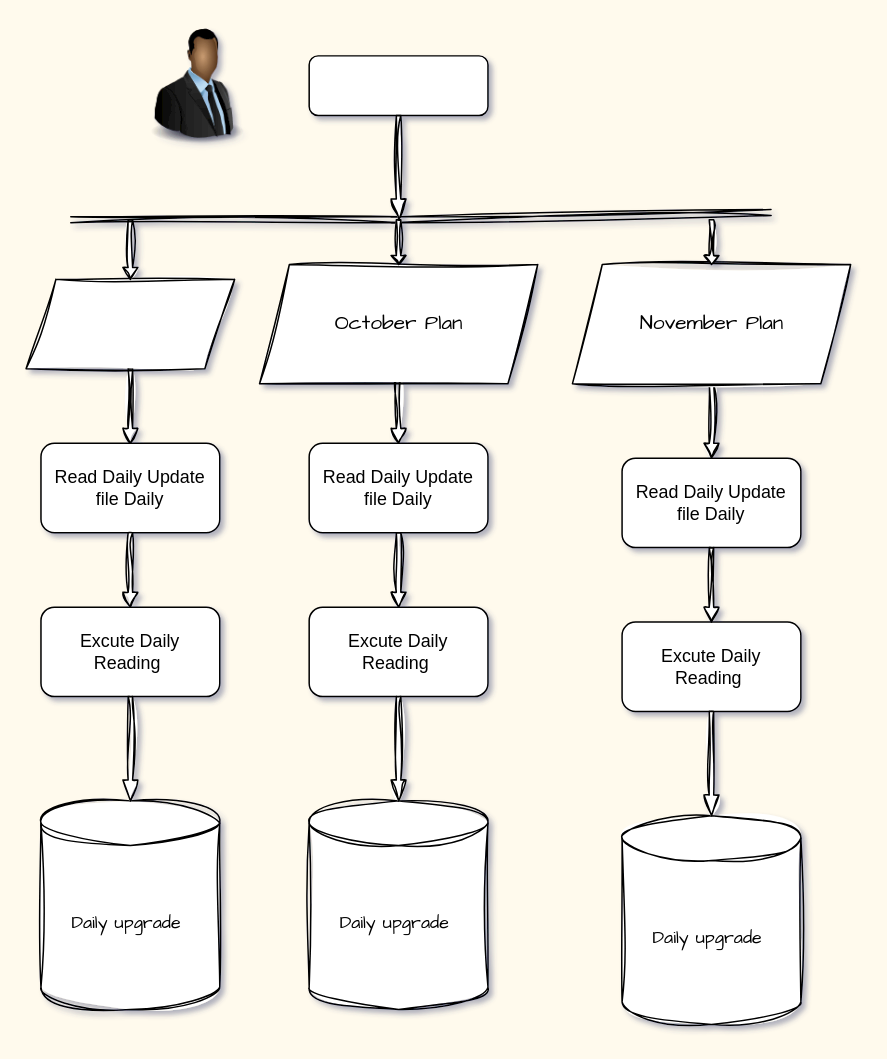
The diagram is 887 pixels wide and 1059 high, and some of its shapes have lost their labels. Here are the shapes that lost their labels. From the top down, the centre of each, then its label:
At point (398, 84): "2017 Road Map".
At point (130, 323): "September Plan".
